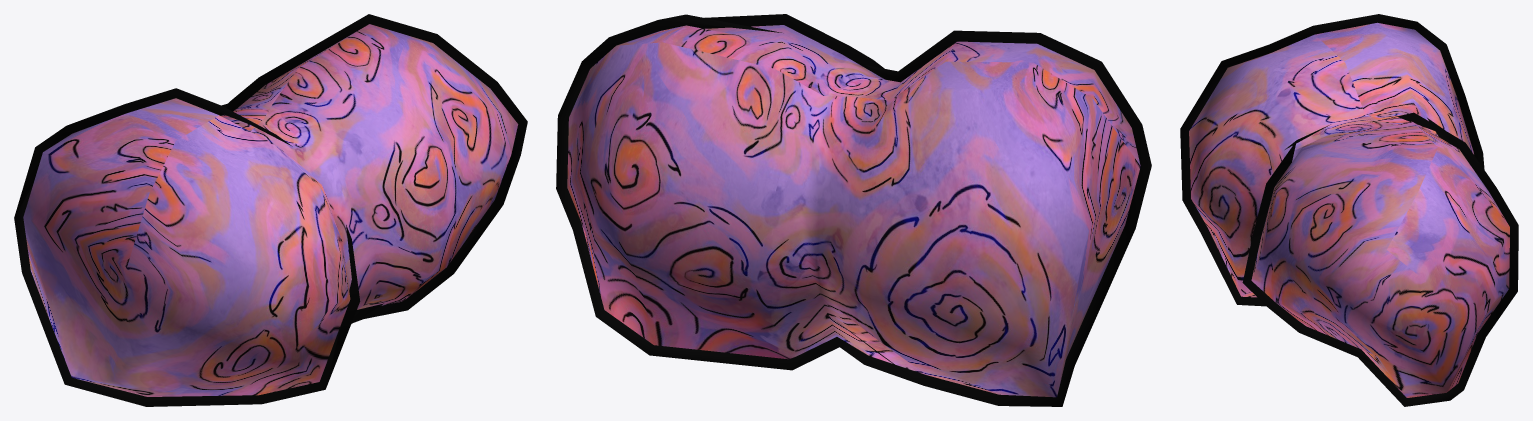
The model's file is entity139900n.gltf.
The picture shows the model from 3 angles, left to right: view 1: azimuth 30°, elevation 25°; view 2: azimuth 150°, elevation 25°; view 3: azimuth 270°, elevation 25°; orthographic projection. The views are drawn at different scales.
Visible parts, largest first — view 1: node_Bush_01; view 2: node_Bush_01; view 3: node_Bush_01.
Part boxes in pixels (<box>): node_Bush_01: <box>14,14,527,406</box>; node_Bush_01: <box>556,14,1151,406</box>; node_Bush_01: <box>1180,14,1518,406</box>.
Size of what is drawn, in the model's own units: 2.4 by 1.36 by 1.59.
